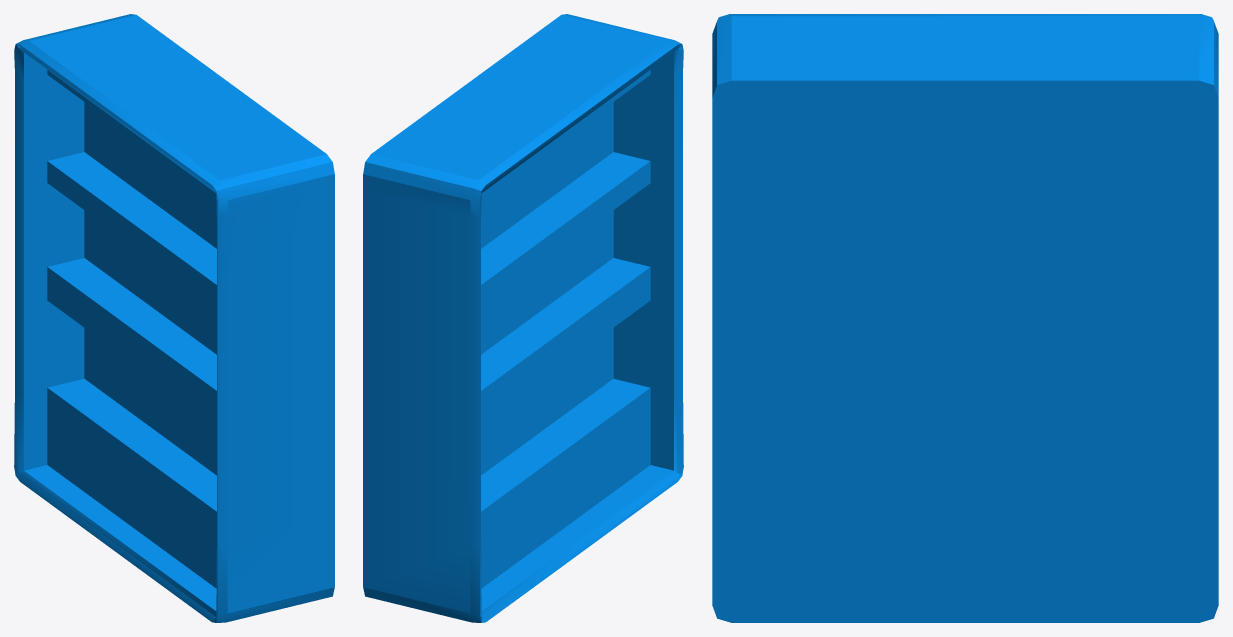
Rendered from EstanteriaLilium.fbx.
3 renders of one model, left to right at view 1: azimuth 30°, elevation 25°; view 2: azimuth 150°, elevation 25°; view 3: azimuth 270°, elevation 25°, orthographic. The views are drawn at different scales.
Visible parts, largest first — view 1: Armario; view 2: Armario; view 3: Armario.
Boxes of the visible parts, box(x1,y1,x2,y2) form: Armario: box(14, 14, 334, 622); Armario: box(363, 14, 683, 622); Armario: box(712, 14, 1218, 622).
Size of the model in its own units: 5.79 by 21.11 by 17.86.
